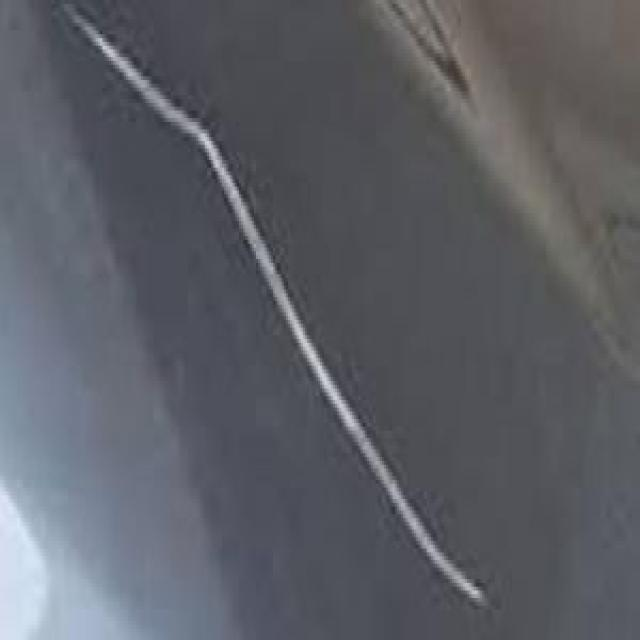scratch: (48, 11, 492, 614)
